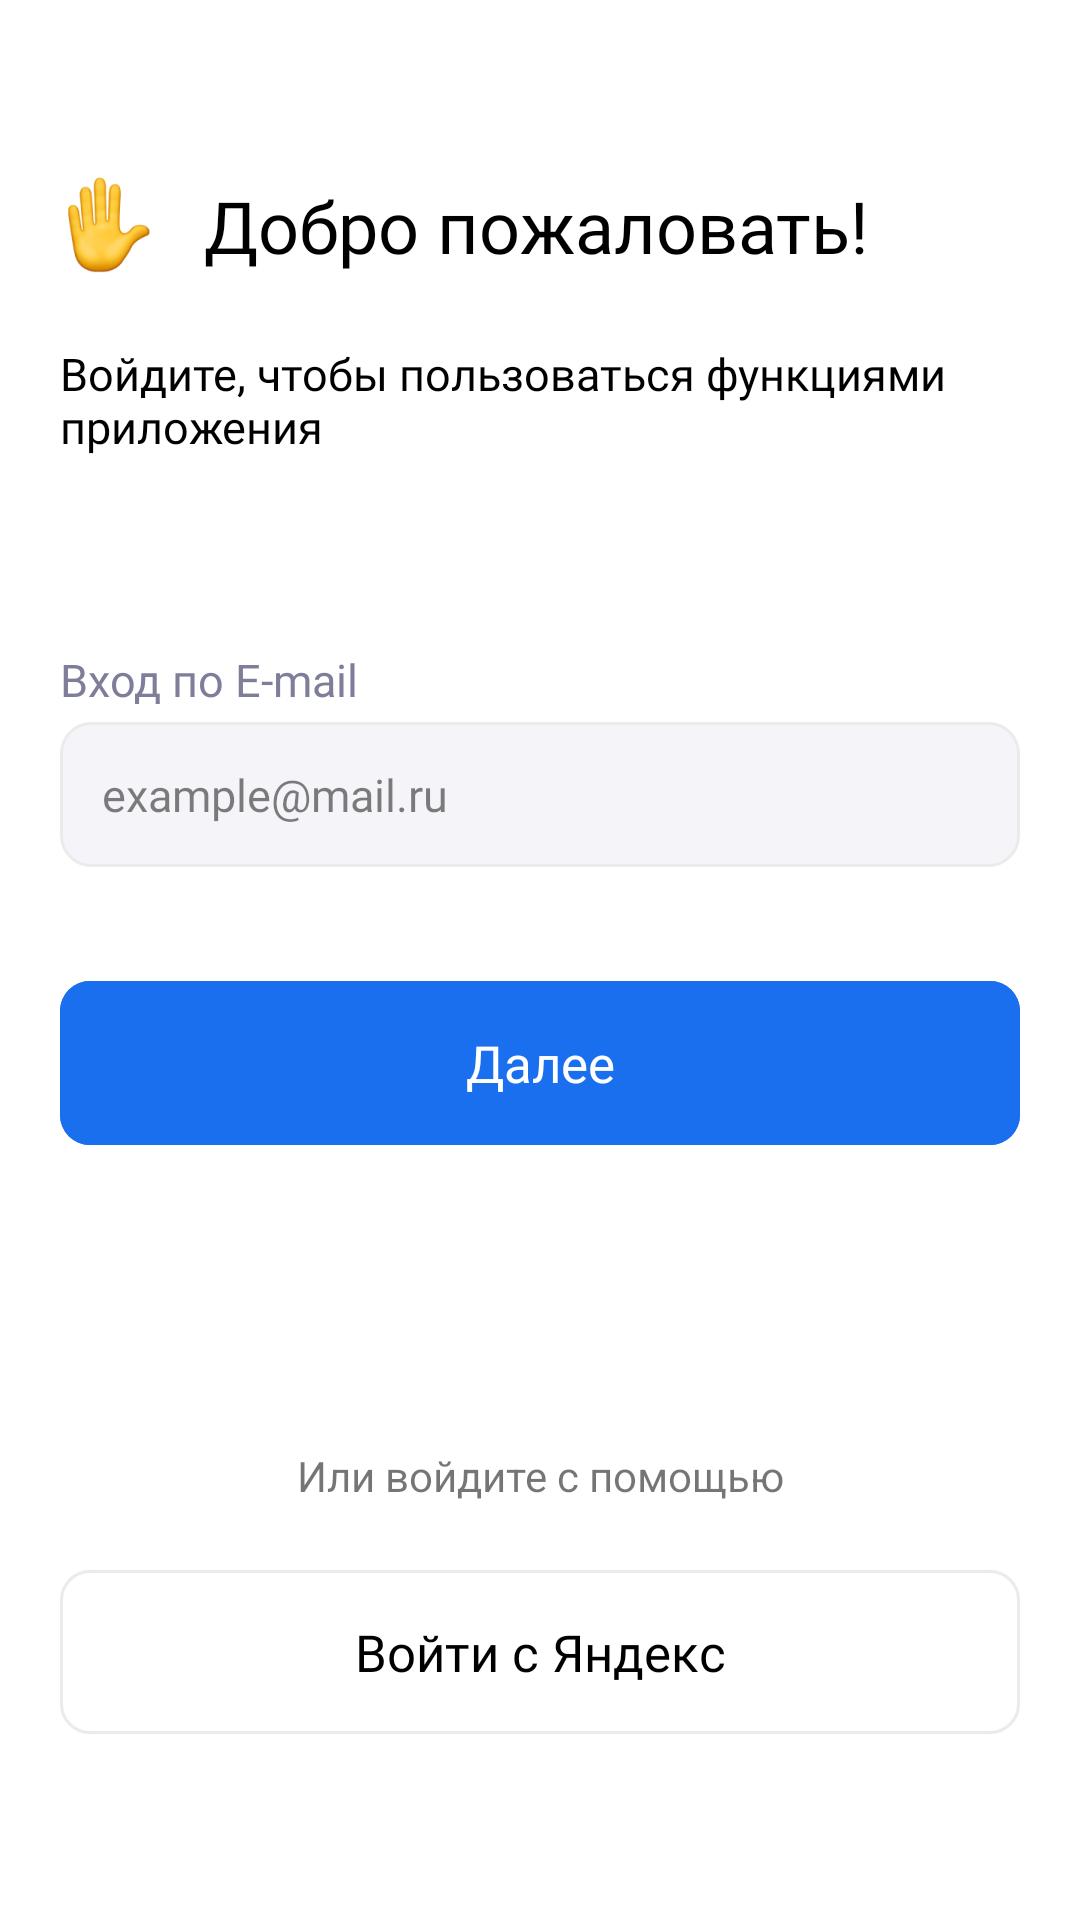

Named icons in this screenshot (1080w x 1920h) and their bounding boxes, (x1, y1, x2, y2):
hello: (68, 177, 150, 272)
